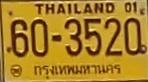0: (123, 17, 143, 54), (30, 18, 48, 56)
2: (104, 17, 121, 55)
3: (64, 18, 81, 55)
5: (83, 17, 101, 55)
6: (9, 18, 28, 56)
BKK: (31, 61, 123, 78)
